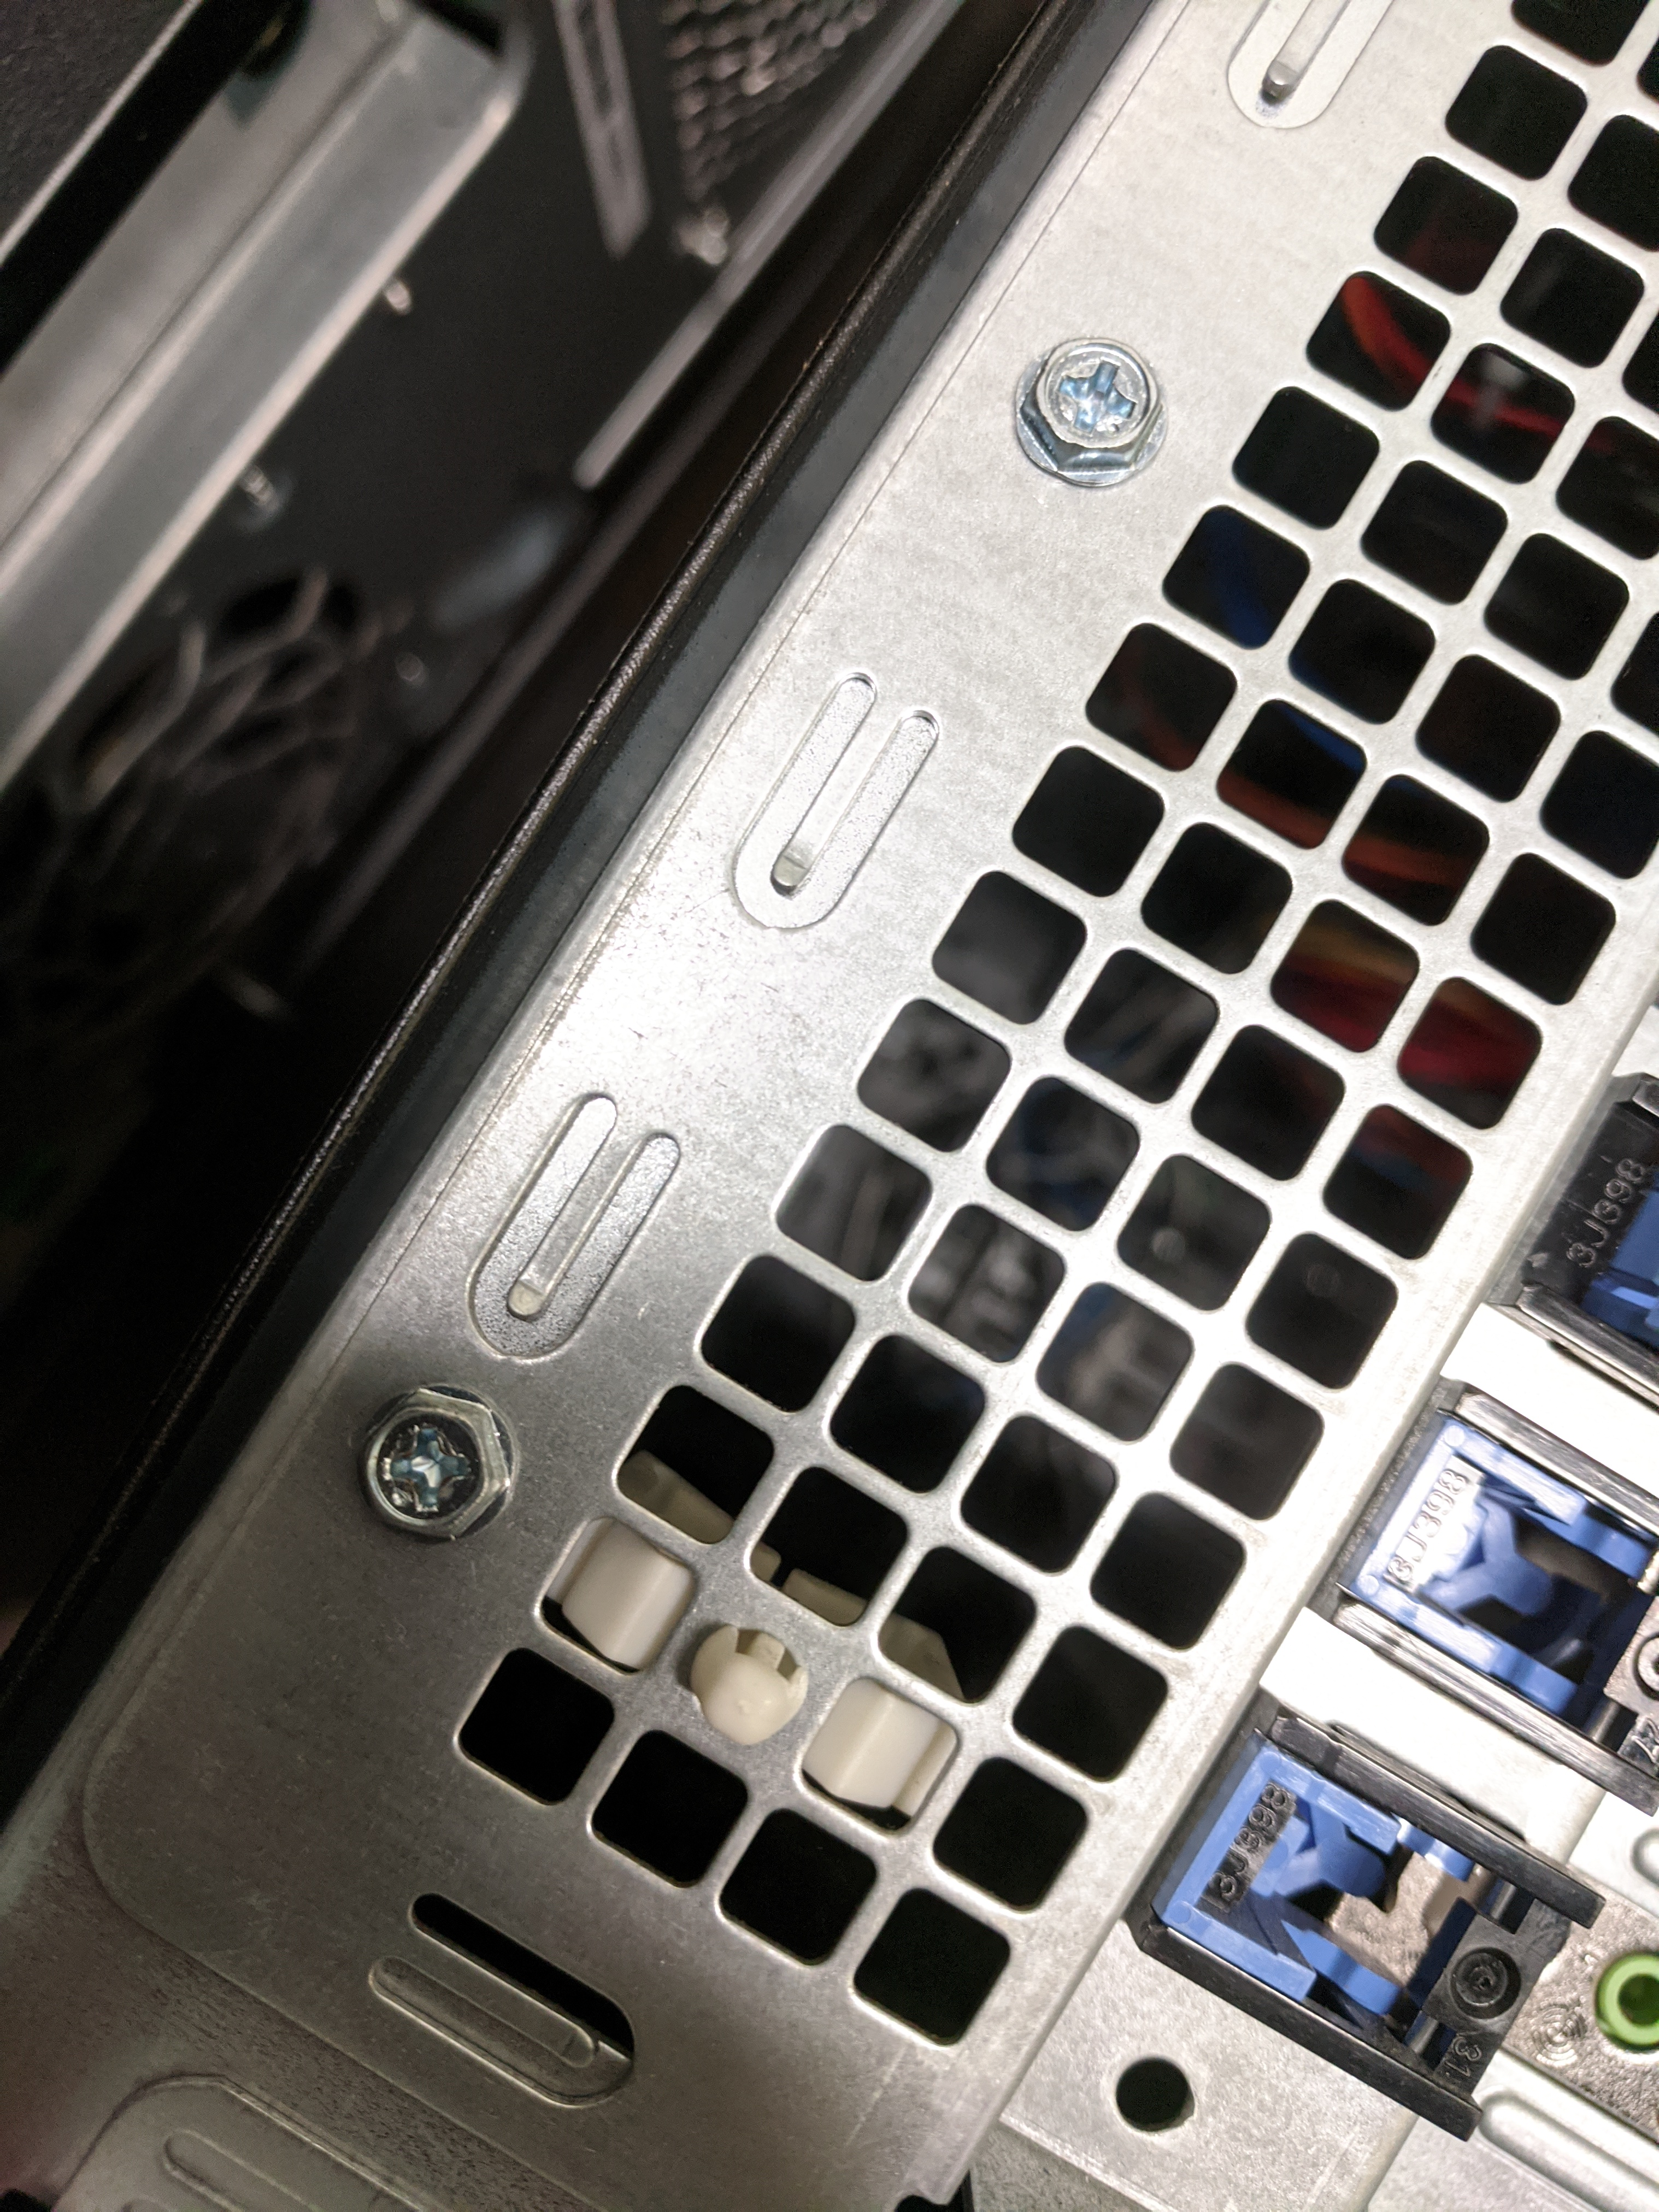cross_recessed_screw: (343, 1376, 512, 1547), (1025, 331, 1173, 467)
